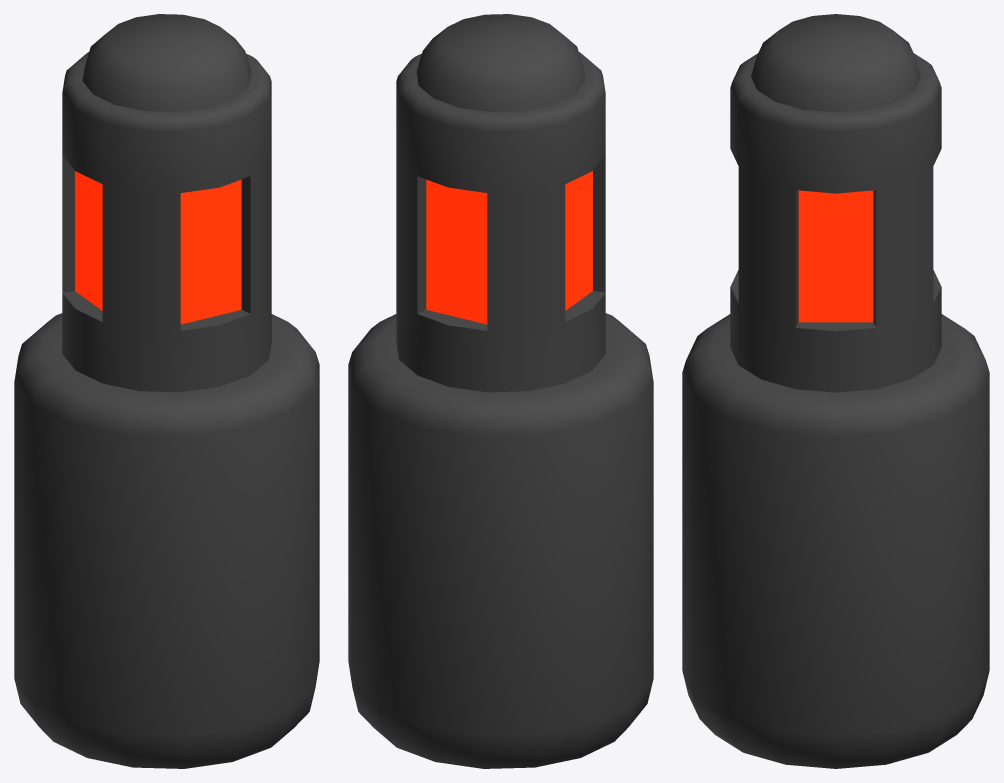
File: Checkpoint.fbx
3 renders of one model, left to right at view 1: azimuth 30°, elevation 25°; view 2: azimuth 150°, elevation 25°; view 3: azimuth 270°, elevation 25°, orthographic.
Parts seen in each view (by area): view 1: Checkpoint; view 2: Checkpoint; view 3: Checkpoint.
Part boxes in pixels (<box>): Checkpoint: <box>14,14,319,768</box>; Checkpoint: <box>348,14,653,768</box>; Checkpoint: <box>682,14,989,768</box>.
Bounding box in the file's own units: 161 × 397 × 161.
